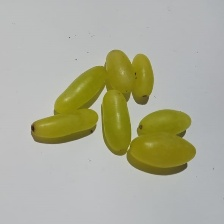grapes: (57, 32, 200, 192)
